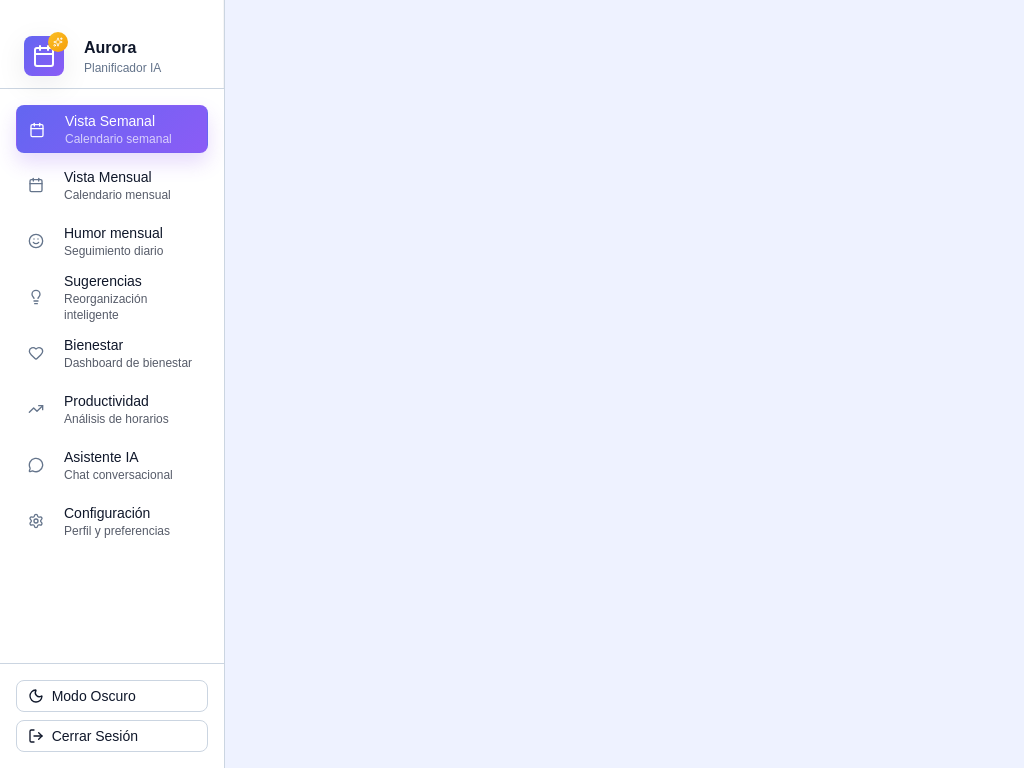
Test case: Navigation - Theme Toggle with Backend Sync (PLAN-130) › debería alternar entre light y dark correctamente
Expected: the text "Modo Oscuro" is shown, [52,686,136,706]
Click to dark
Click the button "Modo Oscuro" at (112, 696), box [16,680,208,712]
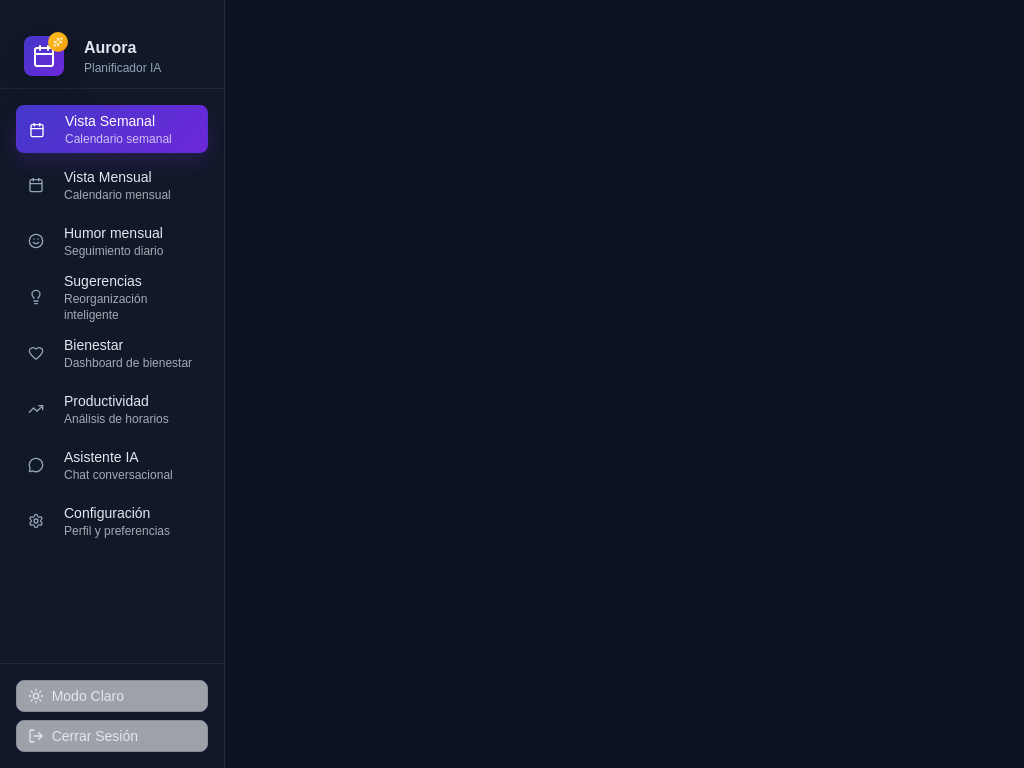
Now the text "Modo Claro" is shown, box [52,686,124,706]
Click to light again
Click the button "Modo Claro" at (112, 696), box [16,680,208,712]
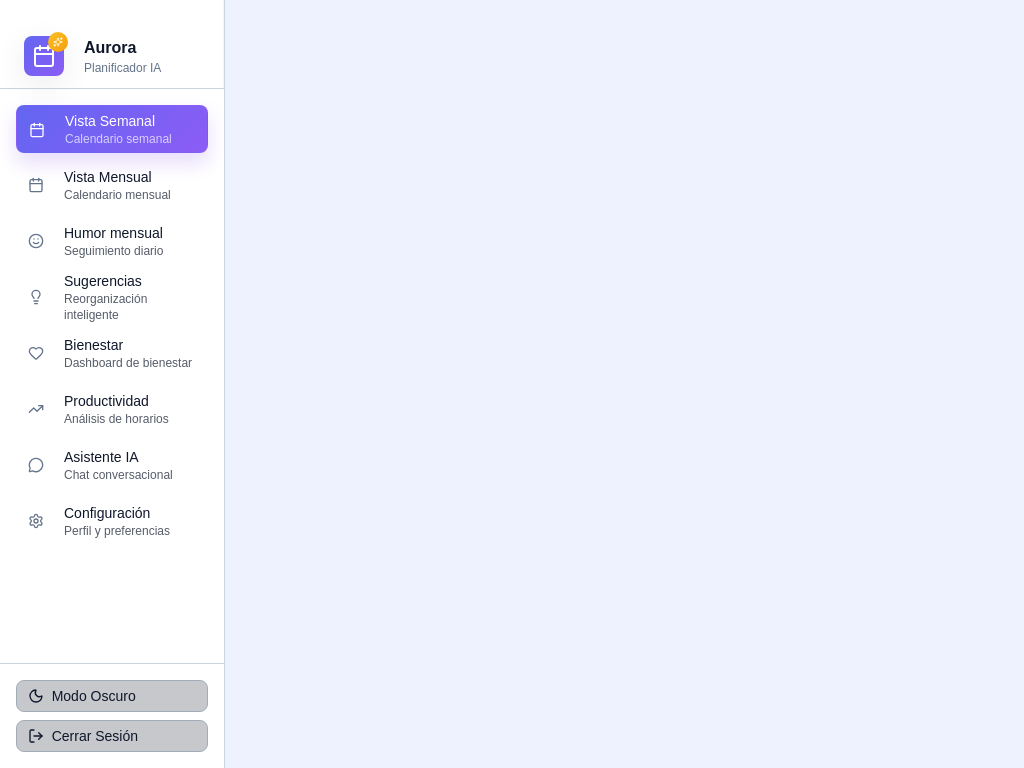
Now the text "Modo Oscuro" is shown, box [52,686,136,706]
